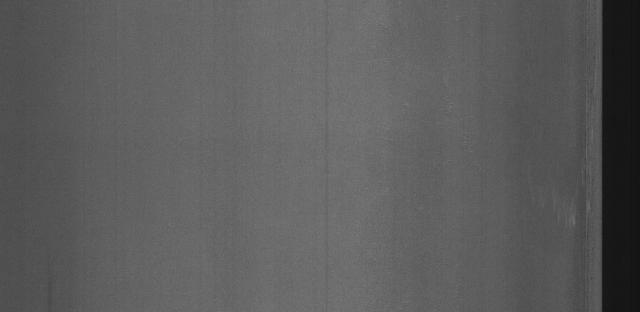silk_spot: (565, 15, 596, 259)
